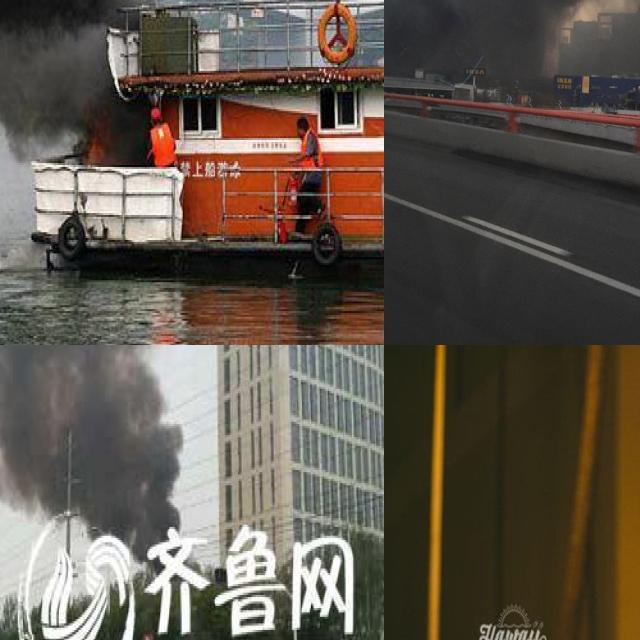fire: (146, 109, 174, 165), (85, 132, 106, 165)
smoke: (0, 345, 183, 557), (0, 0, 155, 163)
